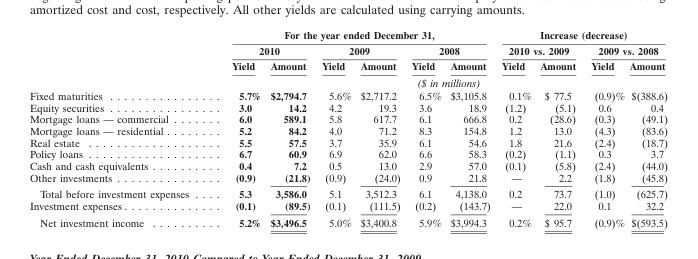table: (28, 28, 666, 228)
table column: (28, 28, 209, 228), (209, 28, 264, 228), (264, 28, 315, 228), (355, 28, 405, 228), (445, 28, 495, 228), (535, 28, 582, 228), (582, 28, 626, 228), (315, 28, 355, 228), (405, 28, 445, 228), (495, 28, 535, 228), (626, 28, 666, 228)
table column header: (28, 28, 666, 88)
table row: (28, 42, 666, 58), (28, 58, 666, 74), (28, 213, 666, 228), (28, 28, 666, 42), (28, 74, 666, 88), (28, 171, 666, 185), (28, 185, 666, 199), (28, 199, 666, 213), (28, 88, 666, 101), (28, 112, 666, 124), (28, 124, 666, 136), (28, 147, 666, 159), (28, 159, 666, 171), (28, 101, 666, 112), (28, 136, 666, 147)
table spanning cell: (209, 74, 666, 88), (209, 28, 495, 42), (495, 28, 666, 42), (209, 42, 315, 58), (315, 42, 405, 58), (405, 42, 495, 58), (495, 42, 582, 58), (582, 42, 666, 58)
